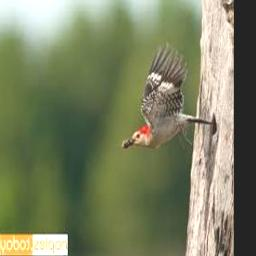Woodpecker: (130, 41, 213, 151)
